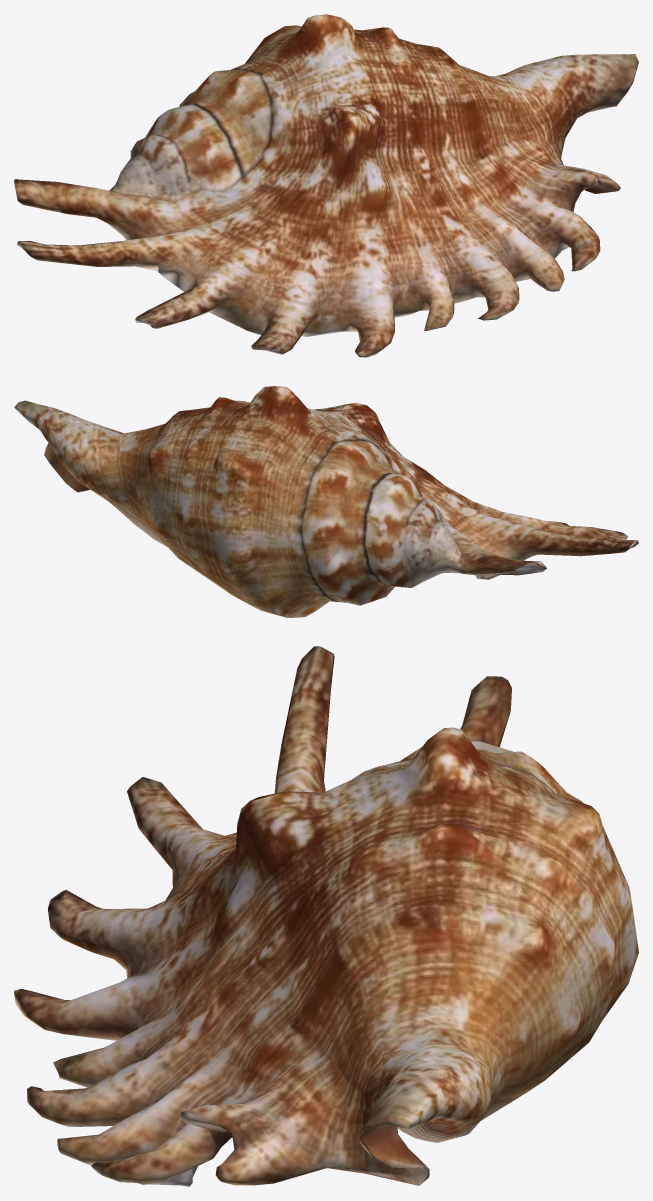
The model's file is lambis_shell.glb.
3 renders of one model, top to bottom at view 1: azimuth 30°, elevation 25°; view 2: azimuth 150°, elevation 25°; view 3: azimuth 270°, elevation 25°, orthographic. The views are drawn at different scales.
Parts seen in each view (by area): view 1: lambis_shell; view 2: lambis_shell; view 3: lambis_shell.
Boxes of the visible parts, left/top/right/bottom form: lambis_shell: left=14, top=14, right=638, bottom=357; lambis_shell: left=14, top=386, right=638, bottom=617; lambis_shell: left=14, top=646, right=638, bottom=1186.
Bounding box in the file's own units: 0.1395 × 0.0464 × 0.0744.
Materials: 1 (1 with a texture image).
